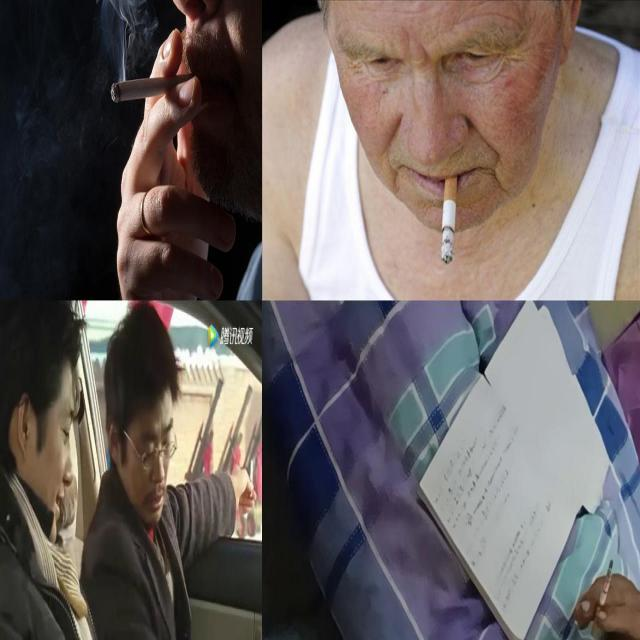cigarette: (110, 70, 206, 104), (437, 167, 461, 270), (590, 560, 614, 638), (250, 457, 254, 499)
